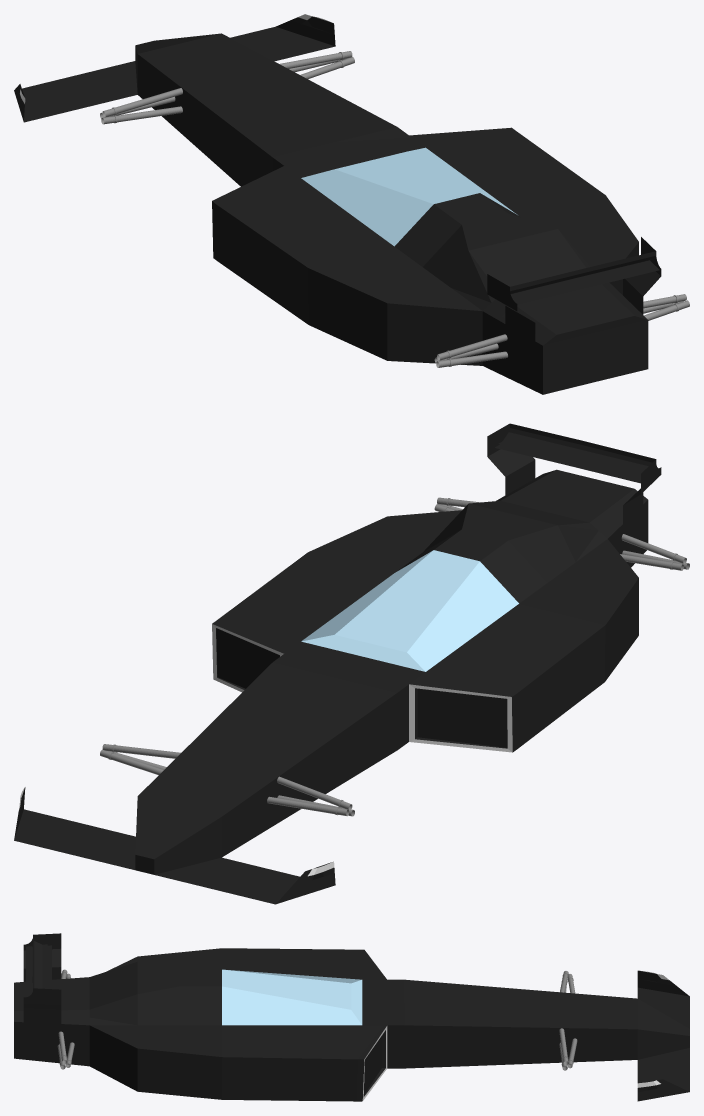
File: body.fbx
3 views of the same model, one above another, from view 1: azimuth 30°, elevation 25°; view 2: azimuth 150°, elevation 25°; view 3: azimuth 270°, elevation 25° (orthographic). The views are drawn at different scales.
Visible parts, largest first — view 1: body; view 2: body; view 3: body.
Boxes of the visible parts, x1=… form: body: x1=14, y1=14, x2=689, y2=394; body: x1=14, y1=423, x2=689, y2=904; body: x1=14, y1=933, x2=689, y2=1101.
Bounding box in the file's own units: 1.92 × 0.6702 × 4.8.
